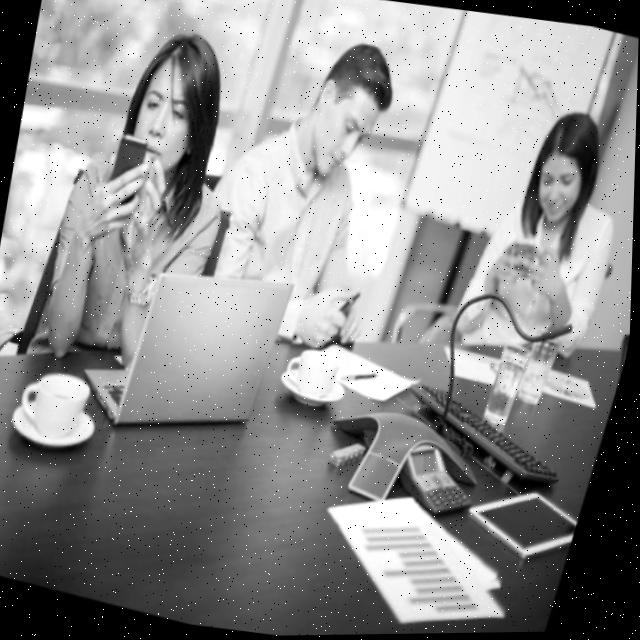phone: (104, 130, 154, 209), (508, 237, 541, 275), (339, 287, 363, 317)
